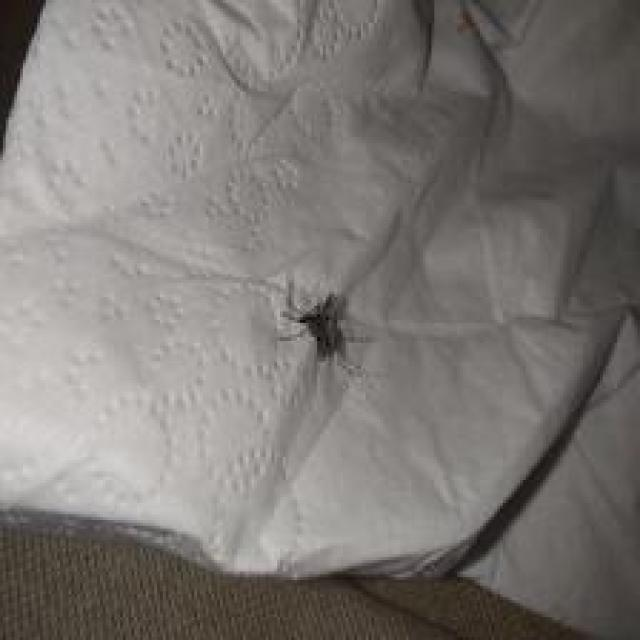Aedes albopictus: (276, 278, 373, 378)
